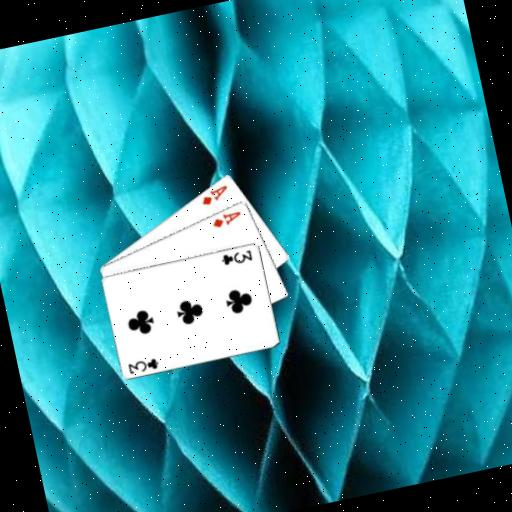3C: (217, 245, 254, 268), (125, 354, 161, 376)
AD: (196, 181, 231, 207), (208, 206, 244, 230)
